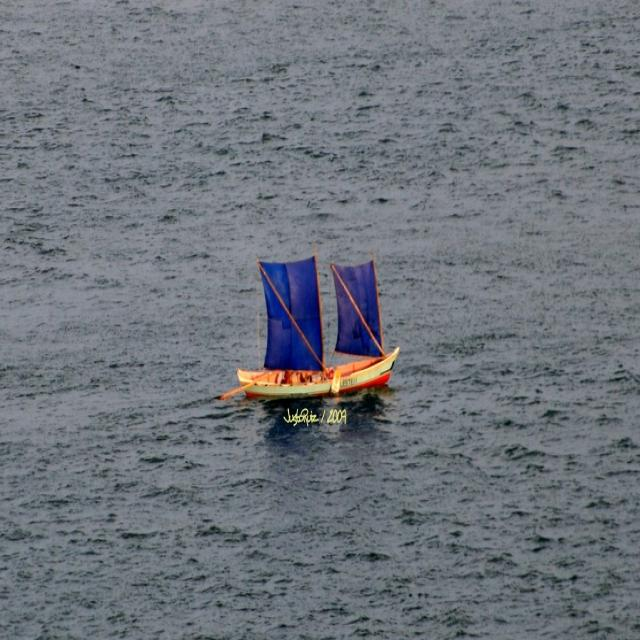Boat: (216, 239, 399, 423)
